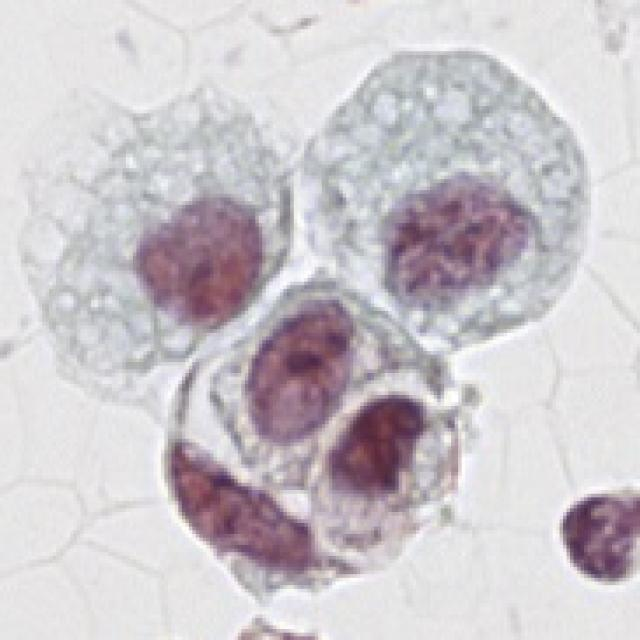cytoplasm: (95, 230, 522, 640), (0, 48, 351, 414)
nucleus: (111, 164, 301, 350), (219, 274, 390, 467), (139, 432, 331, 595), (380, 175, 536, 312), (318, 392, 437, 500)
